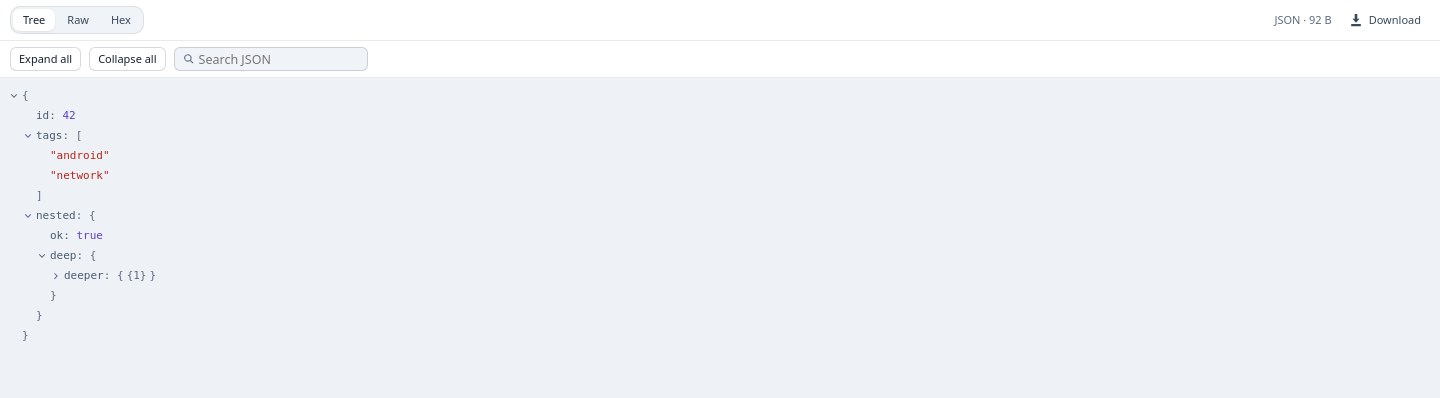
Test case: BodyViewer › shows a JSON tree with collapse/expand and search
Expected: the text "\"android\"" is shown, x1=50 y1=149 x2=110 y2=162
Expected: the text "\"x\"" is not shown
Type "needle" into the search field labelled "Search JSON". click: x=278, y=59
box: x1=198 y1=48 x2=358 y2=70
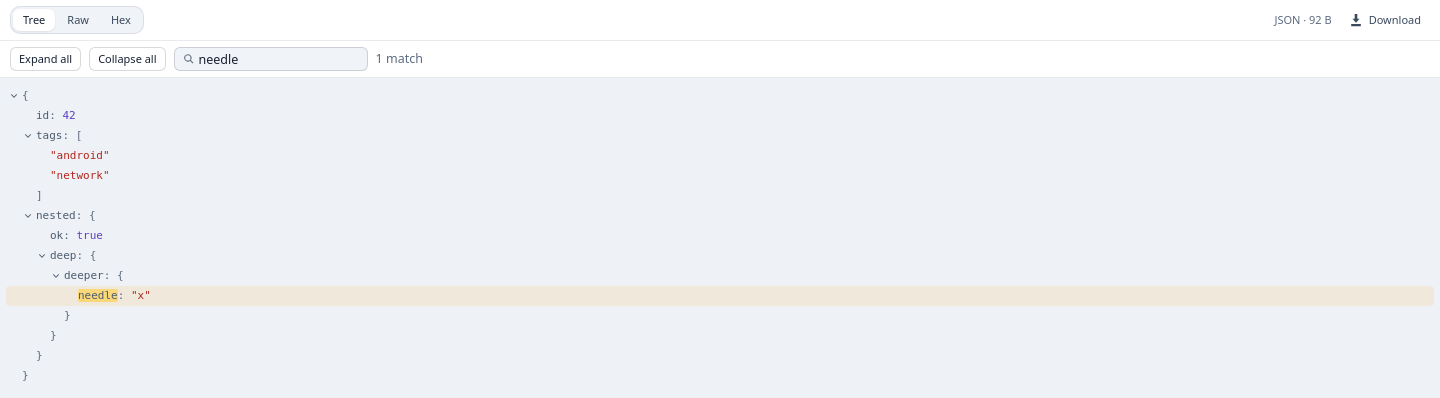
Expected: the text "needle" is shown, x1=78 y1=289 x2=118 y2=302
Expected: the text "1 match" is shown, x1=376 y1=50 x2=423 y2=68
Clear the search field named "Search JSON". click: x=278, y=59
box: x1=198 y1=48 x2=358 y2=70
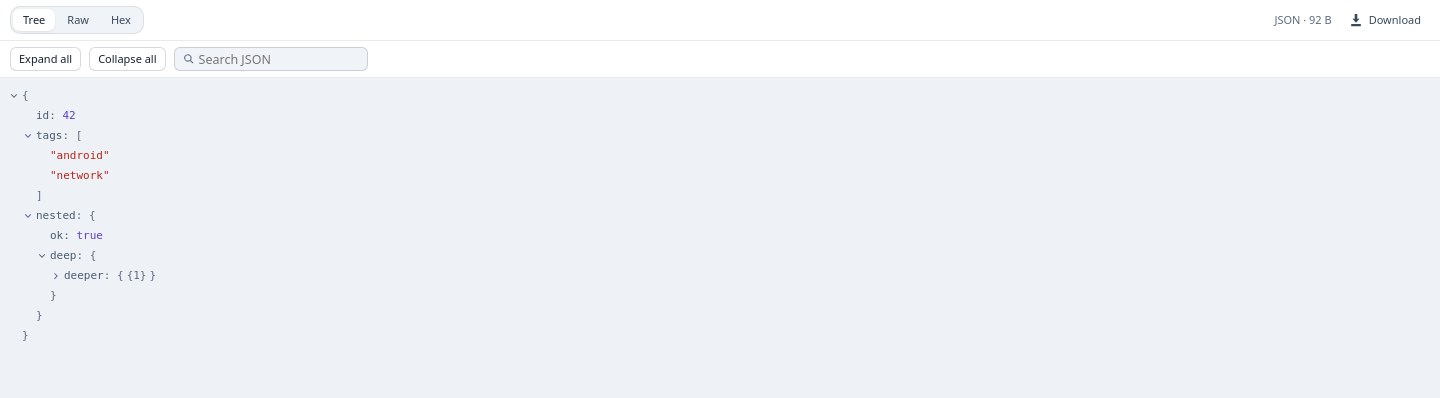
Click the button "Collapse all". click: x=127, y=59
box: x1=89 y1=47 x2=166 y2=71
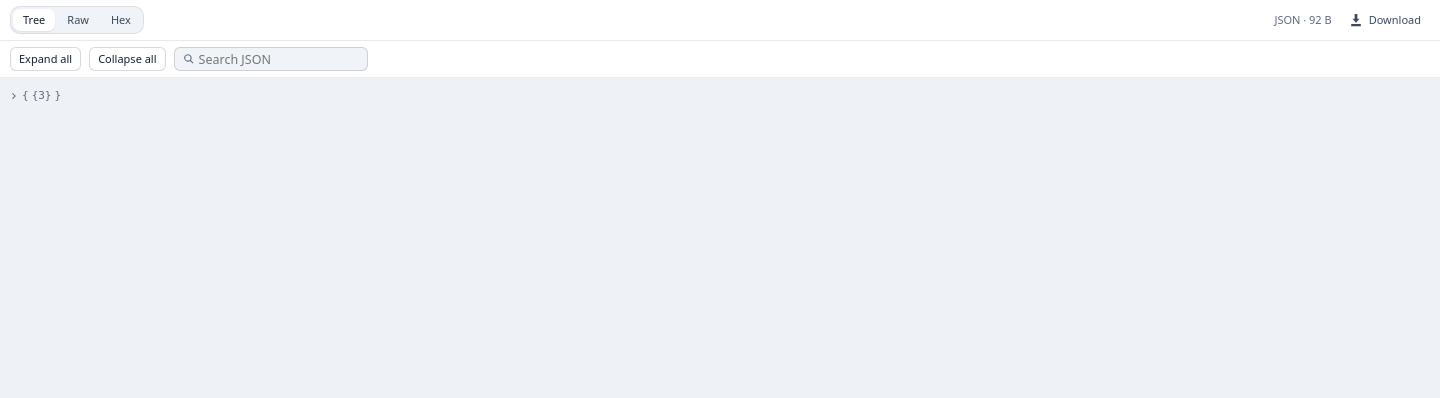
Expected: the text "\"android\"" is gone
Click the button "Expand all". click: x=46, y=59
box: x1=10 y1=47 x2=81 y2=71
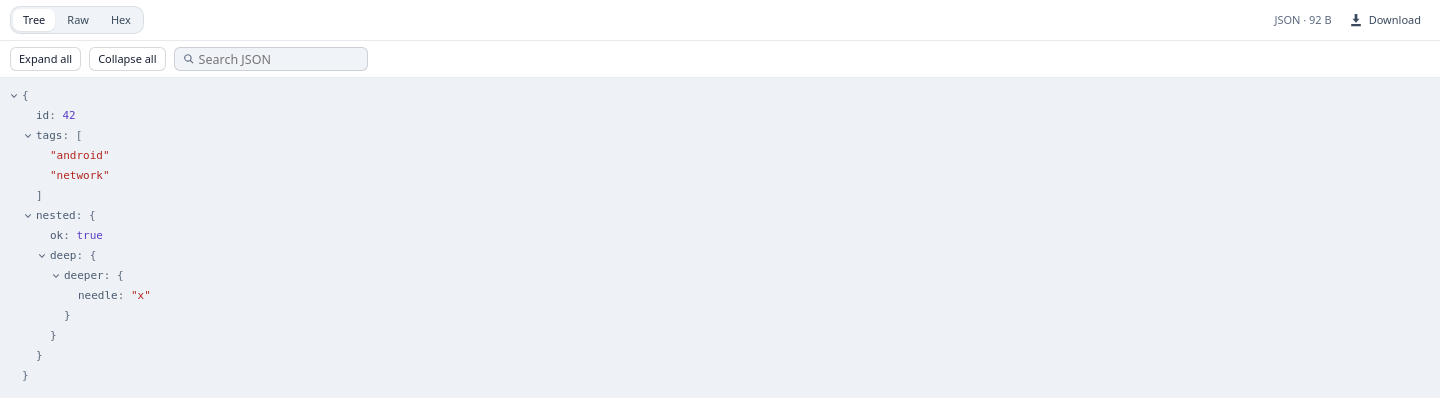
Expected: the text "\"x\"" is shown, x1=131 y1=289 x2=151 y2=302
Click the button "Raw". click: x=78, y=20
box: x1=57 y1=9 x2=99 y2=31
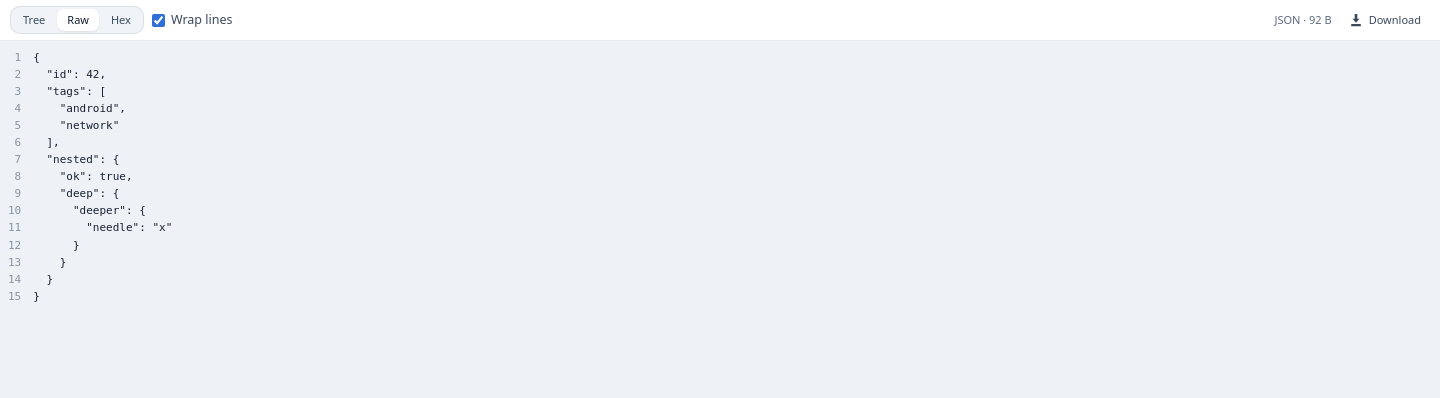
Expected: the text "\"needle\": \"x\"" is shown, x1=33 y1=222 x2=172 y2=234
